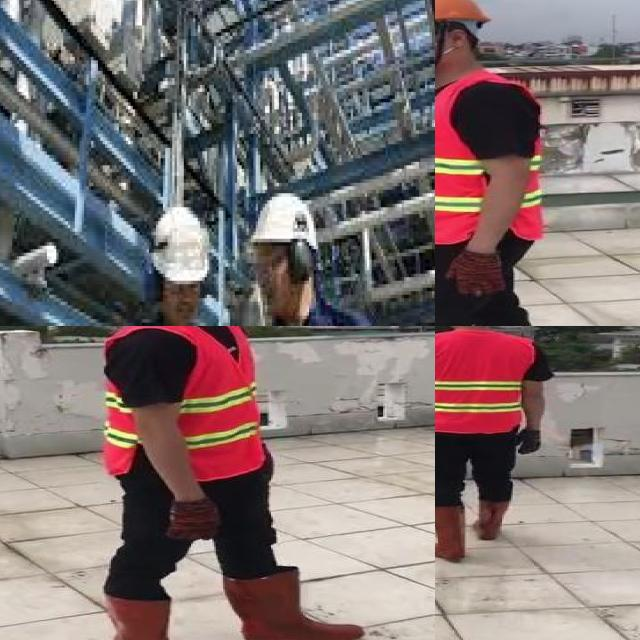Ear-protection: (286, 235, 311, 281), (144, 260, 166, 305), (196, 270, 212, 291)
boots: (217, 571, 363, 640), (96, 595, 219, 640), (435, 504, 470, 565), (474, 497, 509, 539)
hand_glove: (448, 251, 506, 297), (166, 501, 221, 539), (515, 430, 541, 456), (268, 447, 278, 477)
head_helmet: (142, 204, 209, 288), (240, 187, 318, 250), (435, 0, 489, 33)
person: (82, 326, 384, 640), (435, 0, 554, 326), (246, 200, 378, 326), (91, 211, 230, 326)
vest: (102, 326, 264, 479), (435, 75, 547, 242), (435, 331, 526, 433)
